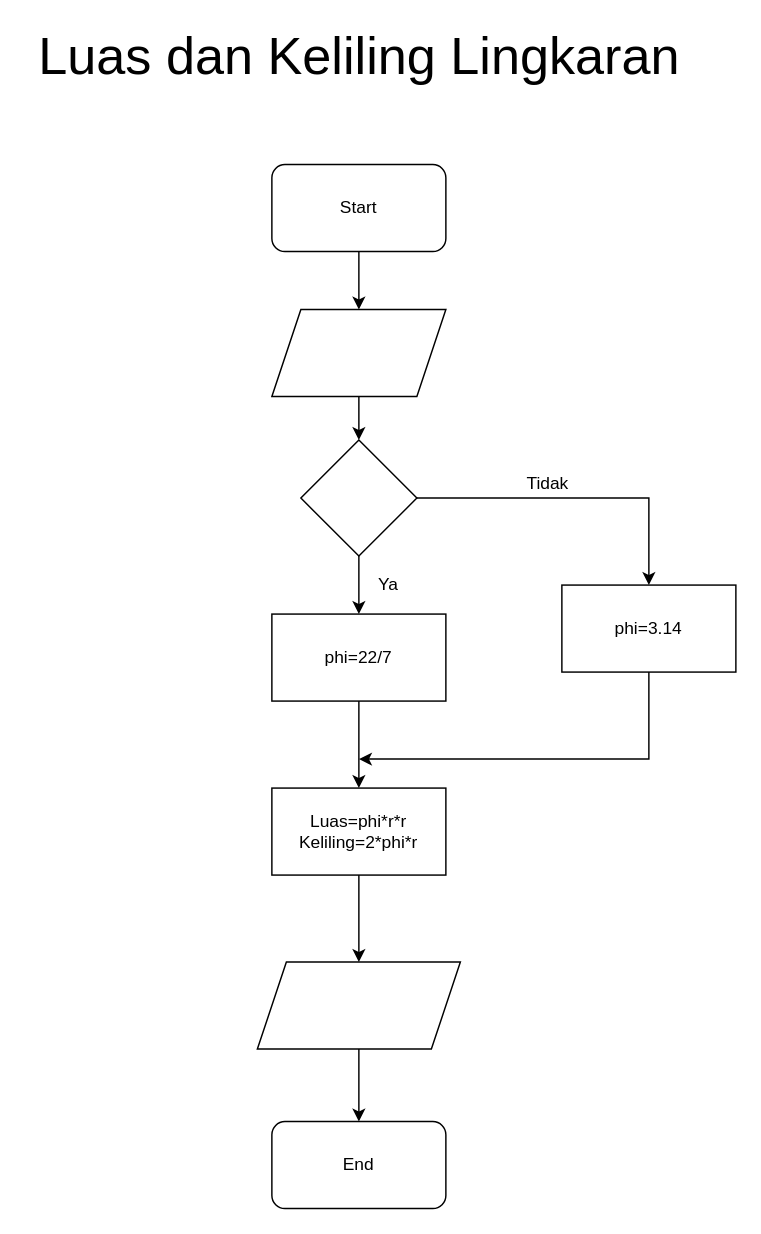
This 761x1234 diagram has some shape labels left out. The shapes that lost their labels are listed below. From the top down, each one's centre as x and y in pixels, then its label:
At point 358,352: "Input r".
At point 358,497: "r mod 7 = 0?".
At point 358,1005: "Output Luas, Keliling".
